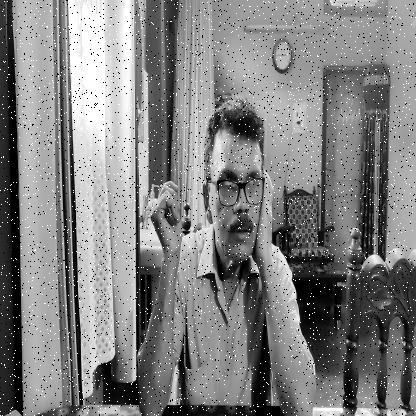Normal: (204, 100, 267, 276)
